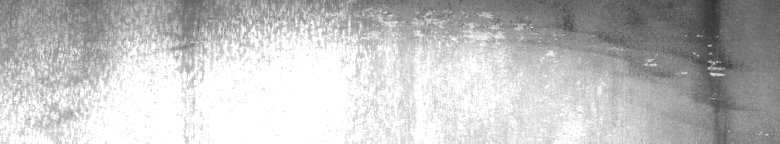hc: (645, 34, 728, 80)
